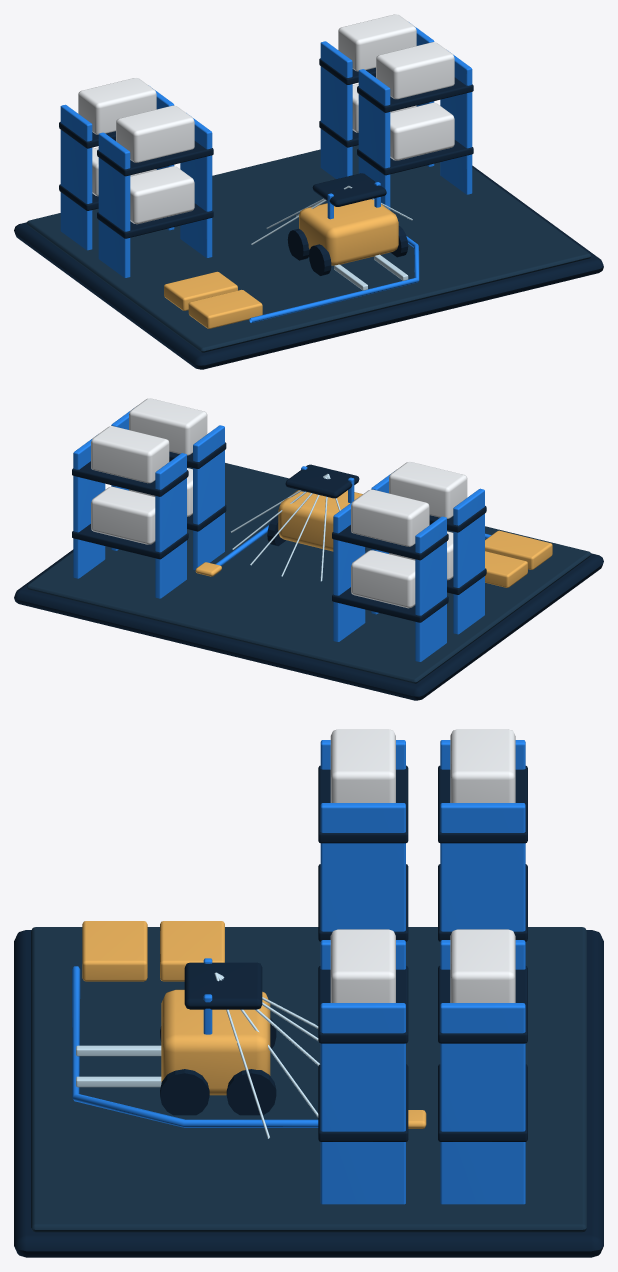
Rendered from robotics-hero.glb.
3 views of the same model, one above another, from view 1: azimuth 30°, elevation 25°; view 2: azimuth 150°, elevation 25°; view 3: azimuth 270°, elevation 25° (orthographic). The views are drawn at different scales.
Parts seen in each view (by area): view 1: Warehouse floor, Warehouse foundation, Robot chassis, Rack upright, Rack upright.002, Rack upright.006, Stored cargo.001, Stored cargo.005, Rack upright.004, Stored cargo, Stored cargo.004, Stored cargo.007 (+13 smaller); view 2: Warehouse floor, Warehouse foundation, Rack upright.002, Rack upright.006, Rack upright, Rack upright.004, Stored cargo.003, Stored cargo.007, Stored cargo.002, Stored cargo.006, Stored cargo.001, Stored cargo.005 (+10 smaller); view 3: Warehouse floor, Warehouse foundation, Rack upright.007, Rack upright.005, Rack upright.001, Rack upright.003, Robot chassis, Stored cargo.001, Stored cargo.003, Stored cargo.007, Stored cargo.005, Dock pallet (+13 smaller).
Boxes of the visible parts, x1,y1,x2,y2 form: Warehouse floor: (27, 145, 590, 352); Warehouse foundation: (14, 165, 603, 369); Robot chassis: (299, 199, 398, 265); Rack upright: (98, 132, 130, 277); Rack upright.002: (60, 104, 92, 250); Rack upright.006: (320, 41, 352, 178); Stored cargo.001: (116, 105, 194, 162); Stored cargo.005: (376, 42, 454, 99); Rack upright.004: (358, 69, 390, 210); Stored cargo: (130, 166, 194, 224); Stored cargo.004: (390, 102, 454, 160); Stored cargo.007: (338, 14, 416, 71); Warehouse floor: (27, 463, 590, 683); Warehouse foundation: (14, 466, 603, 700); Rack upright.002: (415, 516, 446, 661); Rack upright.006: (155, 453, 186, 598); Rack upright: (453, 488, 484, 634); Rack upright.004: (193, 425, 224, 570); Stored cargo.003: (351, 489, 429, 546); Stored cargo.007: (91, 426, 169, 483); Stored cargo.002: (351, 550, 415, 608); Stored cargo.006: (91, 486, 155, 544); Stored cargo.001: (389, 461, 467, 518); Stored cargo.005: (129, 398, 207, 455); Warehouse floor: (31, 927, 586, 1232); Warehouse foundation: (14, 930, 603, 1257); Rack upright.007: (440, 1003, 525, 1204); Rack upright.005: (320, 1003, 405, 1204); Rack upright.001: (320, 803, 405, 931); Rack upright.003: (440, 803, 525, 931); Robot chassis: (161, 989, 270, 1095); Stored cargo.001: (330, 729, 395, 802); Stored cargo.003: (450, 729, 515, 802); Stored cargo.007: (450, 929, 515, 1002); Stored cargo.005: (330, 929, 395, 1002); Dock pallet: (82, 921, 147, 981).
Size of the model in its own units: 4.8 by 1.77 by 3.8.
